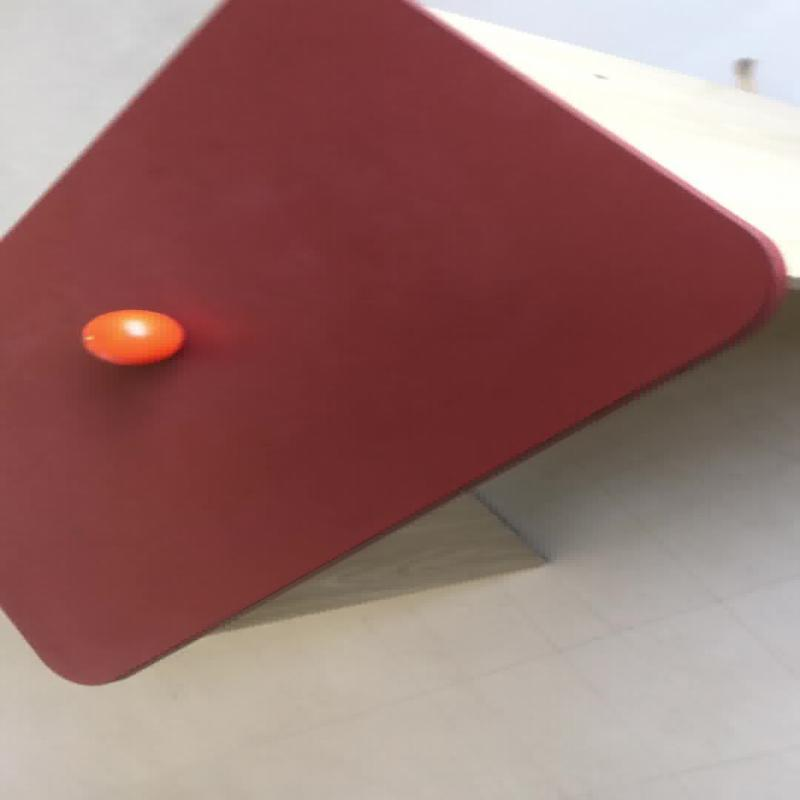orange: (80, 307, 185, 366)
